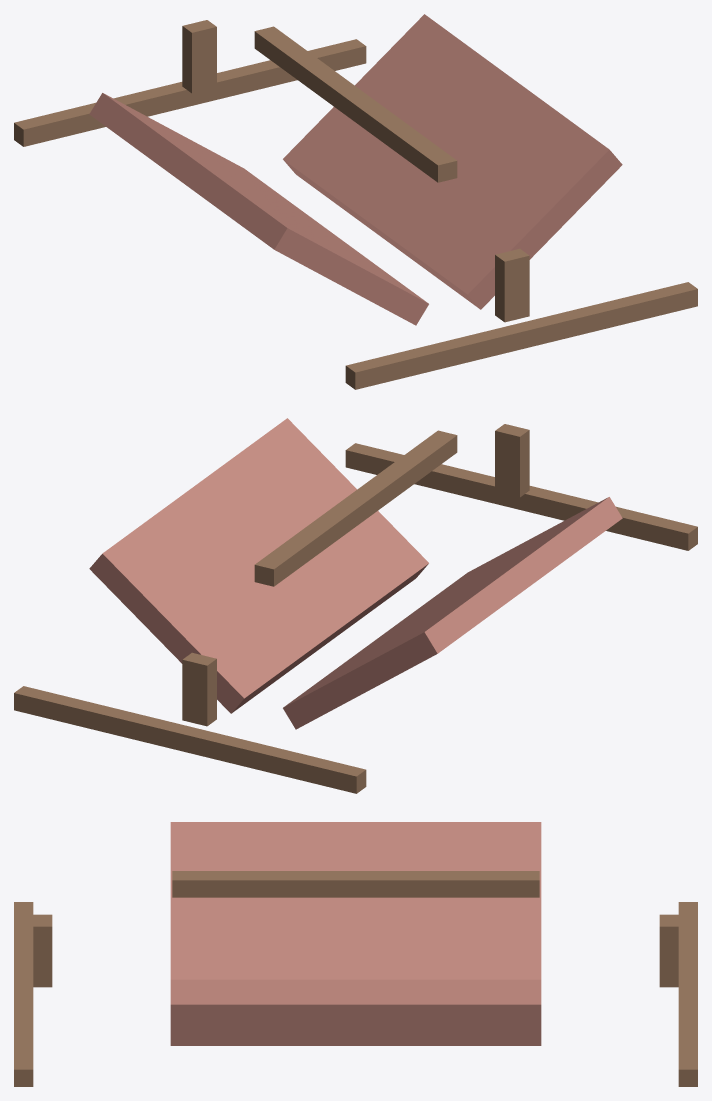
Rendered from building_shell_small_roof.glb.
3 views of the same model, one above another, from view 1: azimuth 30°, elevation 25°; view 2: azimuth 150°, elevation 25°; view 3: azimuth 270°, elevation 25° (orthographic).
Parts seen in each view (by area): view 1: building_shell_small_roof; view 2: building_shell_small_roof; view 3: building_shell_small_roof.
Boxes of the visible parts, box(x1,y1,x2,y2) form: building_shell_small_roof: box(14, 14, 697, 389); building_shell_small_roof: box(14, 418, 697, 793); building_shell_small_roof: box(14, 822, 697, 1086).
Size of the model in its own units: 2.52 by 1.07 by 4.28.
